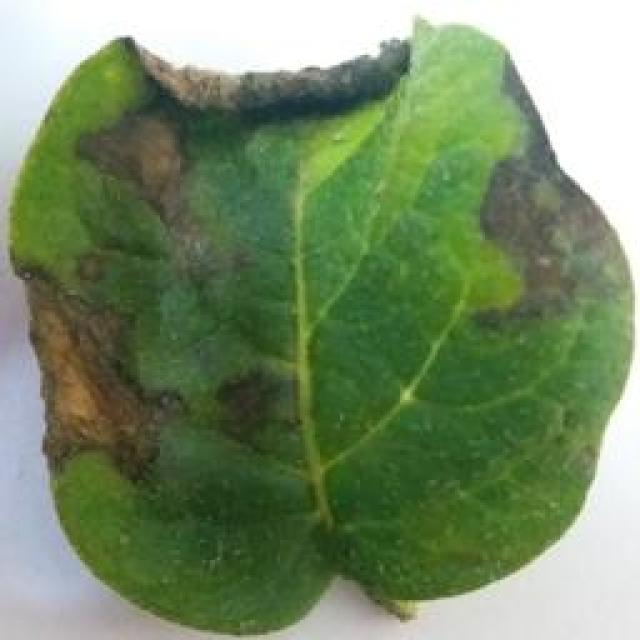Potato_Late_Blight: (7, 2, 621, 612)
